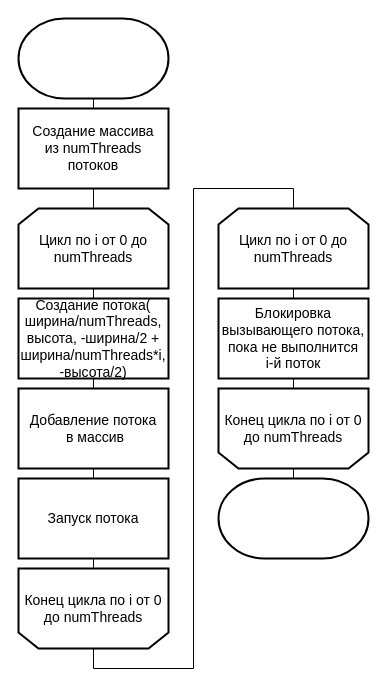
The diagram is 386 pixels wide and 687 high, and some of its shapes have lost their labels. The centre of each missing label's shape, as x and y in pixels:
"Конец программы render" belongs at pixel 293 518.
"Начало программы render" belongs at pixel 93 58.
